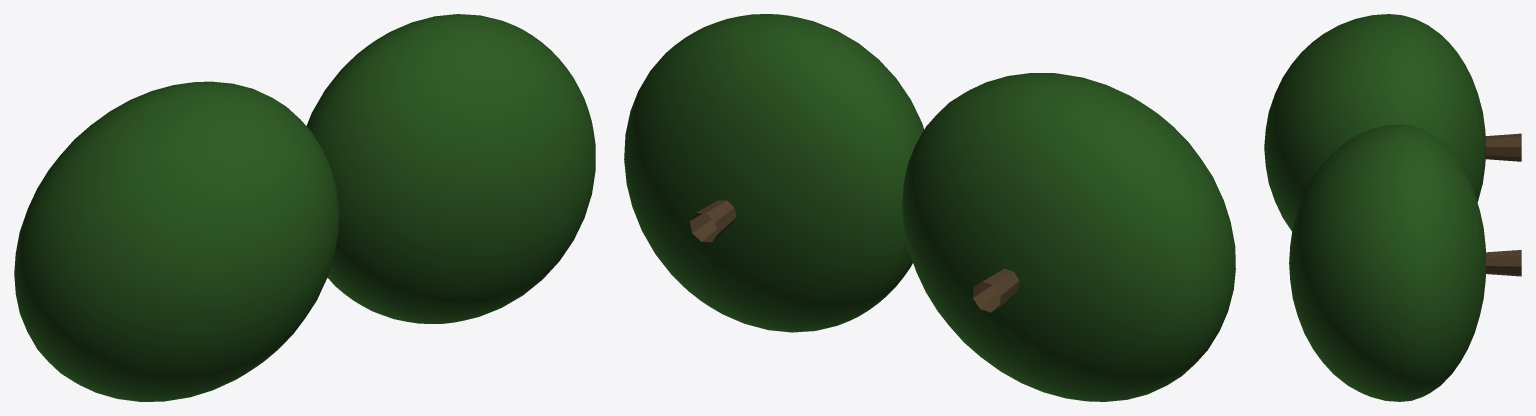
File: citrus_plain2_a.obj
The picture shows the model from 3 angles, left to right: view 1: azimuth 30°, elevation 25°; view 2: azimuth 150°, elevation 25°; view 3: azimuth 270°, elevation 25°; orthographic projection. The views are drawn at different scales.
Parts seen in each view (by area): view 1: canopy; view 2: canopy, trunk; view 3: canopy, trunk.
Part boxes in pixels (x1,y1,x2,y2): canopy: [14, 14, 595, 401]; canopy: [624, 14, 1235, 401]; trunk: [689, 200, 1019, 312]; canopy: [1264, 14, 1485, 401]; trunk: [1485, 133, 1521, 276].
Bounding box in the file's own units: 6.14 × 3.03 × 2.82.
